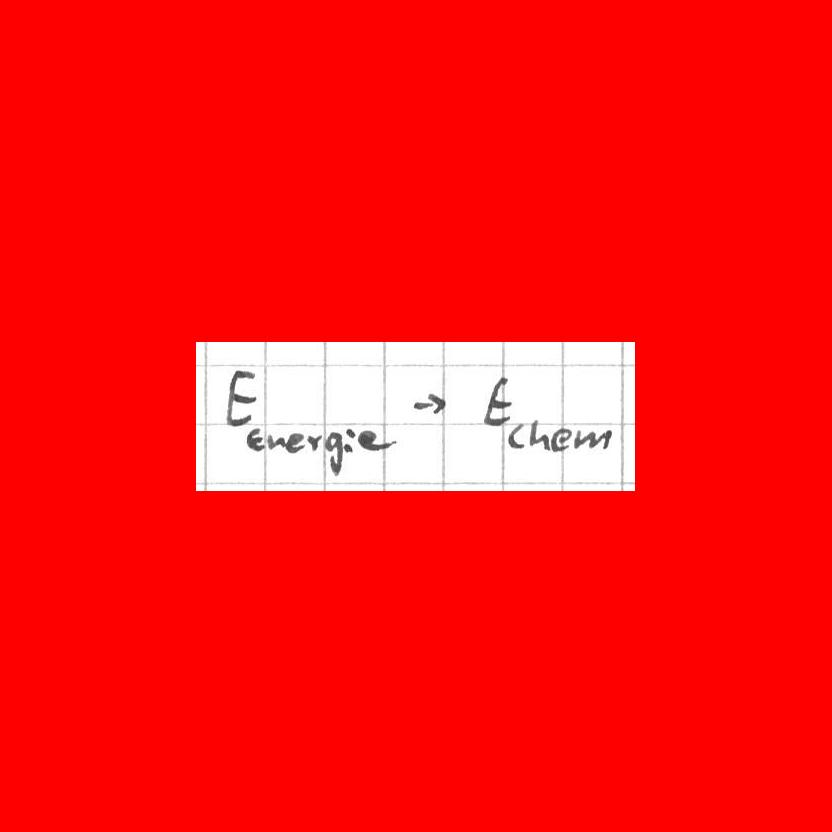Char: (224, 363, 257, 433), (481, 374, 513, 429), (574, 423, 612, 452), (359, 425, 394, 453), (409, 391, 446, 415), (326, 429, 342, 477), (531, 417, 551, 450), (506, 419, 525, 449), (244, 426, 266, 451), (552, 424, 571, 451), (266, 432, 289, 452), (286, 431, 305, 453), (343, 424, 356, 453), (307, 430, 323, 452)
